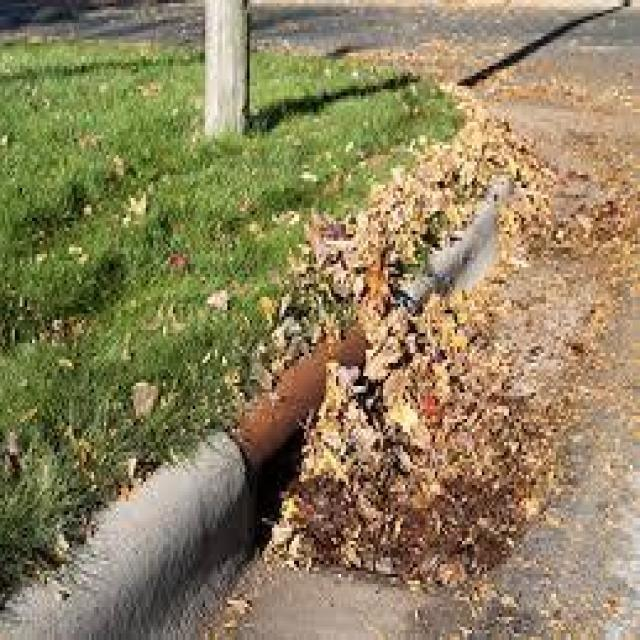bump: (1, 360, 292, 640)
